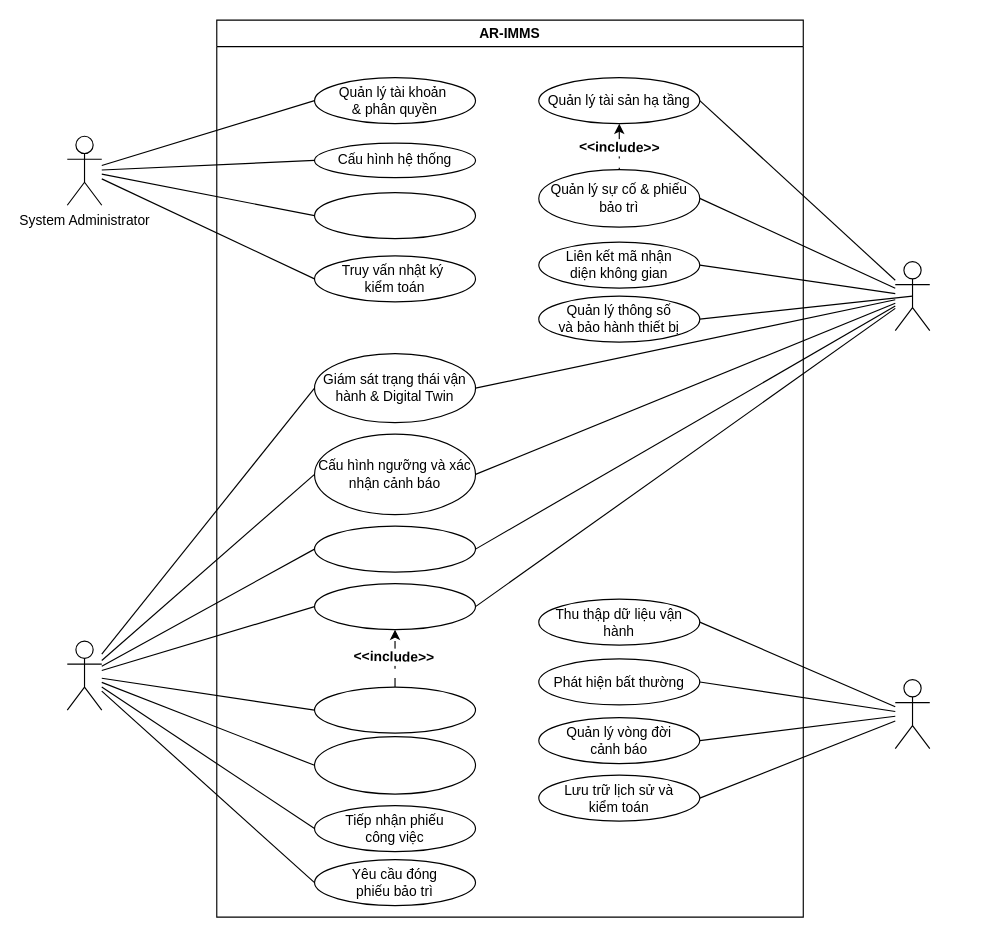
This 999x937 diagram has some shape labels left out. Each missing label, with the box of its shape:
Automated Monitoring & Alerting System: (894, 678, 930, 749)
Cập nhật tiến trình xử lý: (313, 686, 476, 733)
Field Technician: (66, 640, 102, 710)
Nhận diện thiết bị qua AR: (313, 582, 476, 630)
Phân tích xu hướng và báo cáo: (313, 525, 476, 572)
Quản lý môi trường Mini Data Center: (313, 191, 476, 239)
System Operator: (894, 260, 930, 331)
Xem thông tin vận hành chi tiết: (313, 735, 476, 794)
